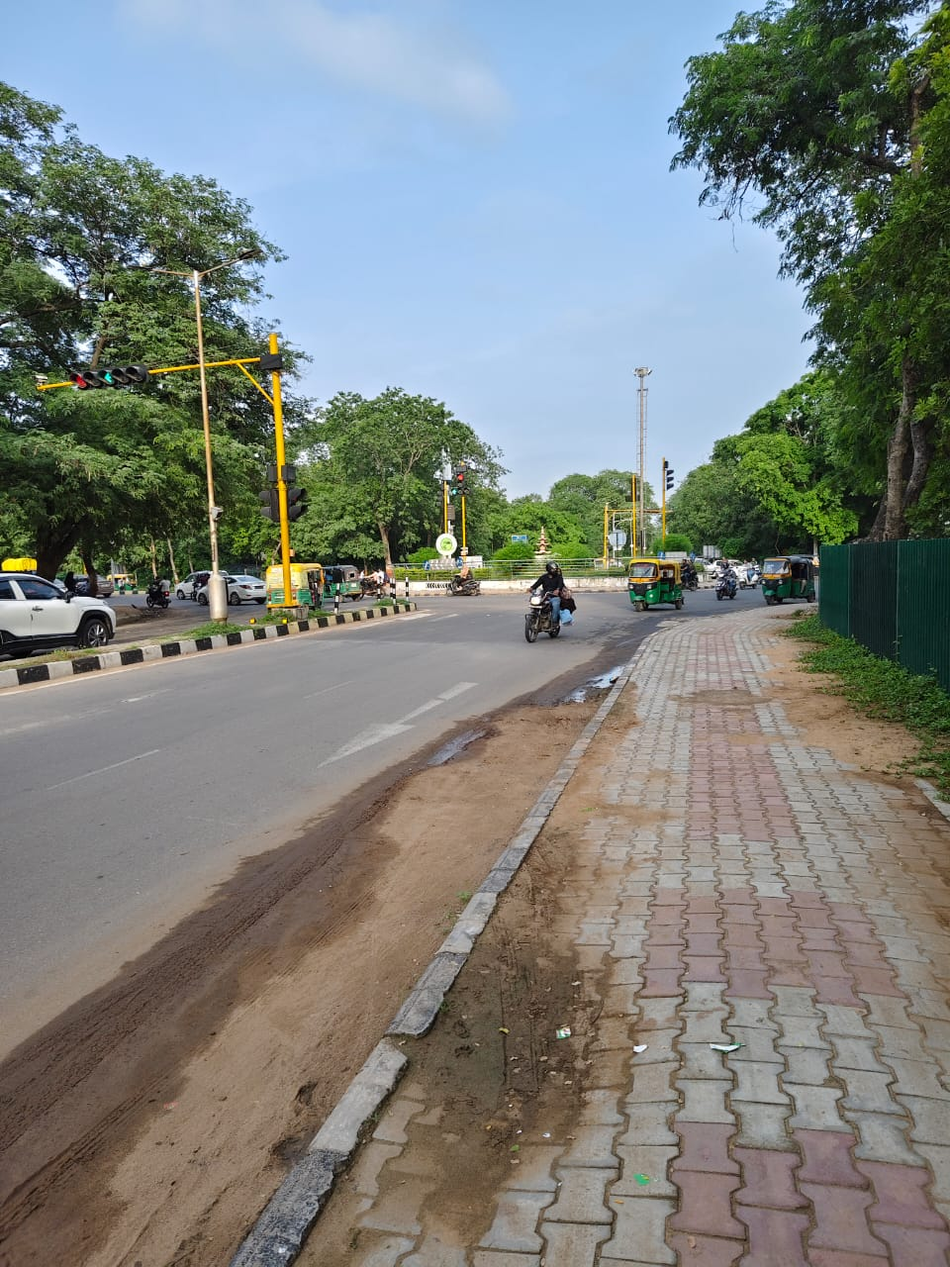BikeWithRider: (521, 560, 578, 644), (443, 563, 483, 597), (712, 558, 740, 603), (357, 565, 392, 599), (675, 557, 701, 593), (737, 556, 760, 591)
Helmet: (544, 560, 561, 578)
